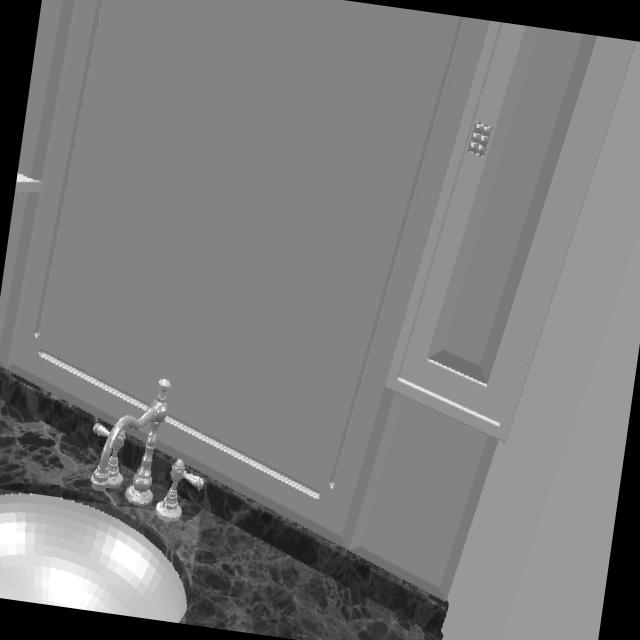washbasin: (0, 493, 189, 624)
